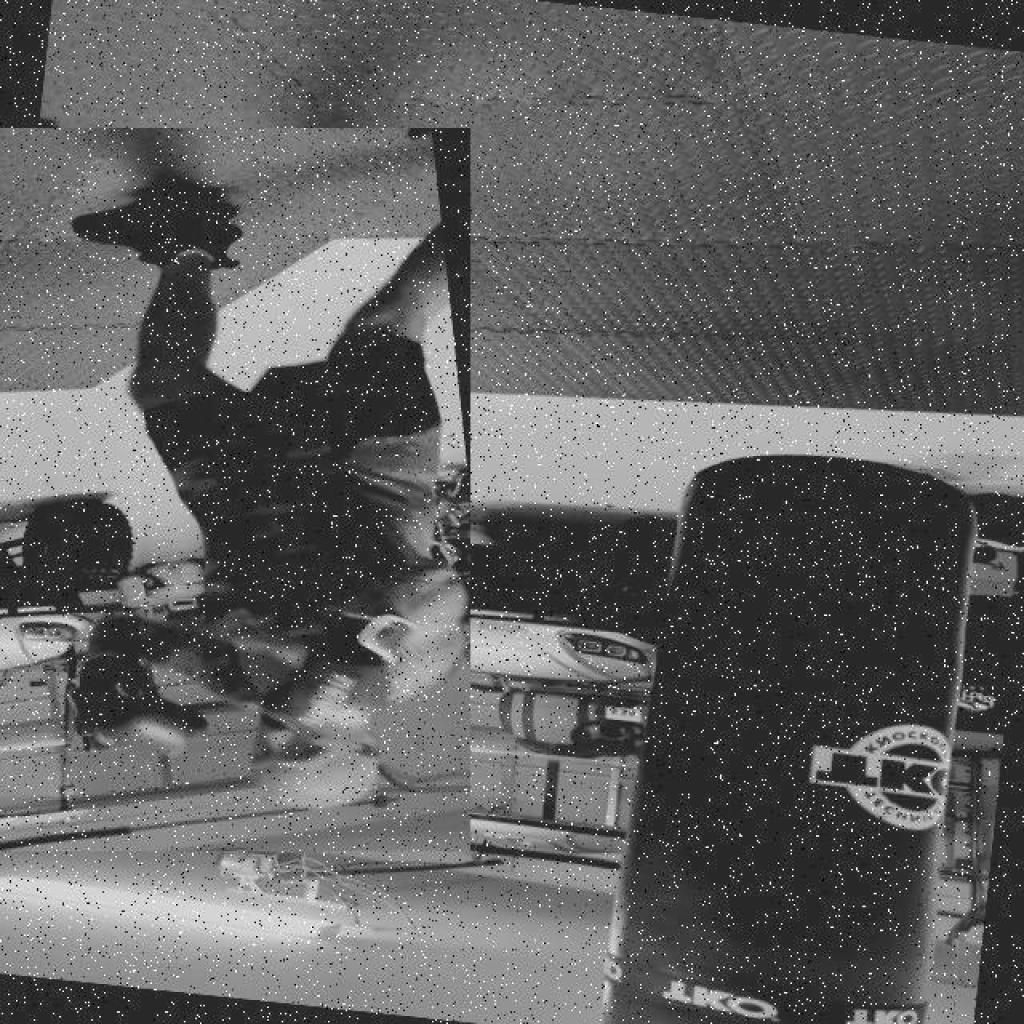no punch: (0, 127, 470, 850)
